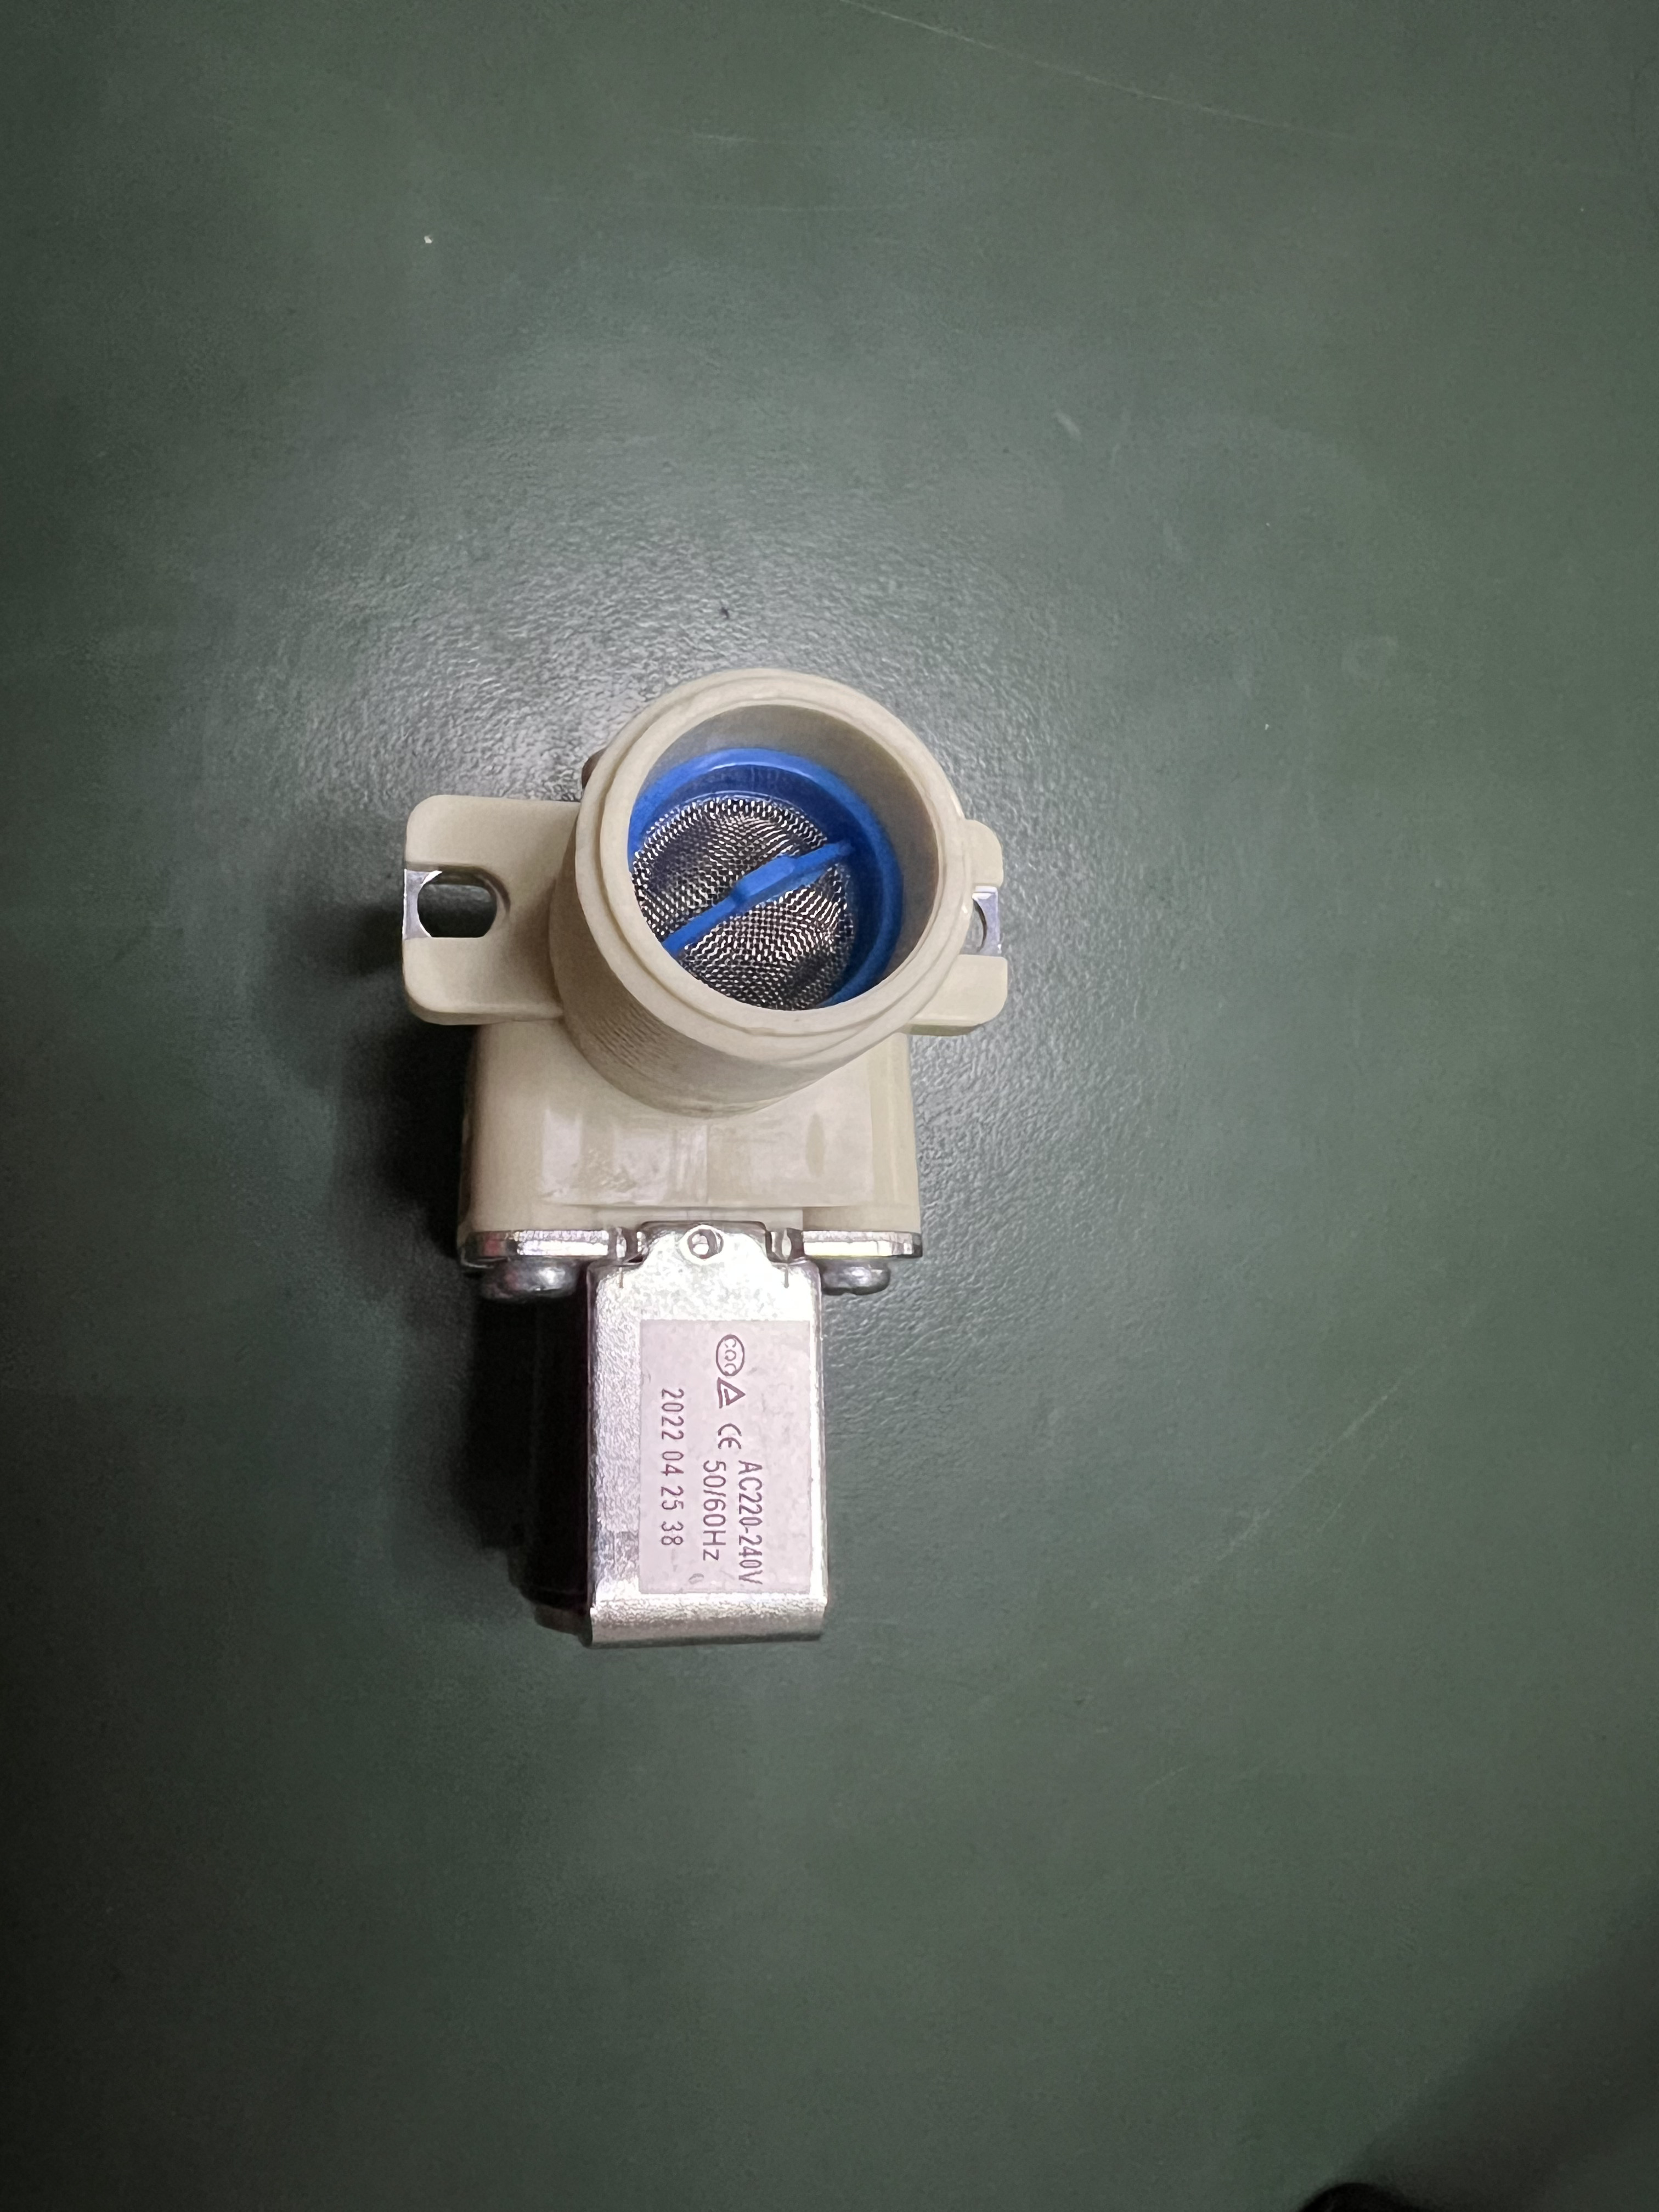godrej_inlet_valves: (390, 672, 1054, 1730)
